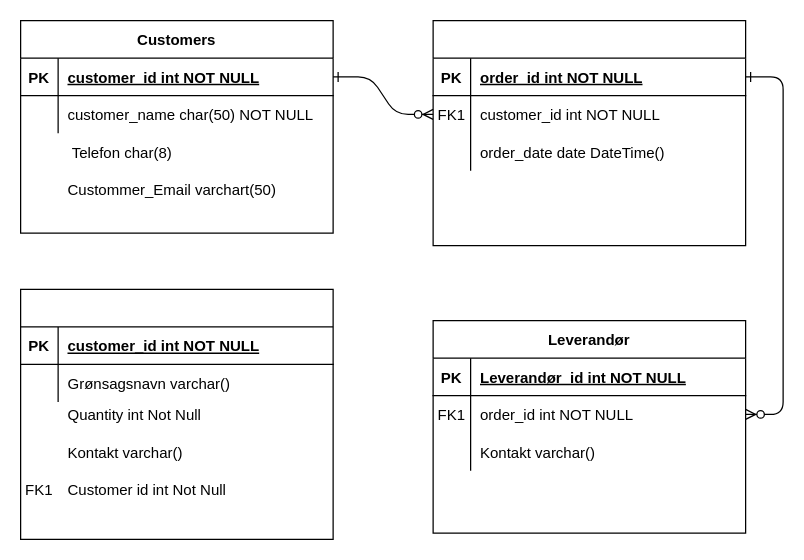
Image size: 804x560. Some labels were removed from this diagram. The box of each missing label's shape, as (x1, y1, x2, y2) in pixels:
Grønsager: (19, 288, 333, 539)
Orders: (432, 19, 746, 246)
